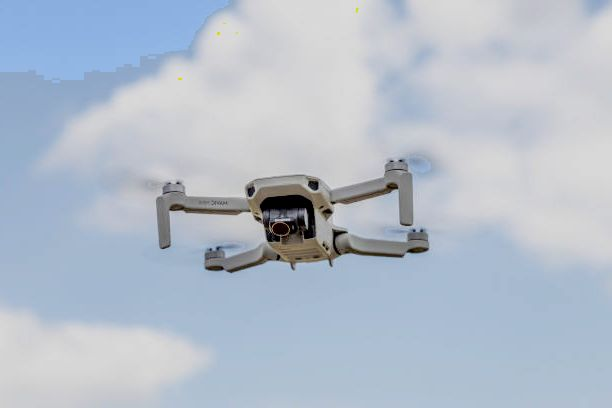Drone: (129, 155, 456, 274)
